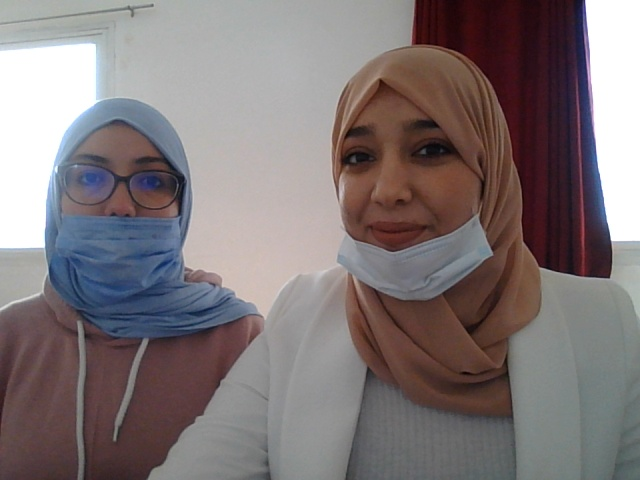mask_weared_incorrect: (303, 65, 503, 315), (47, 98, 190, 294)
